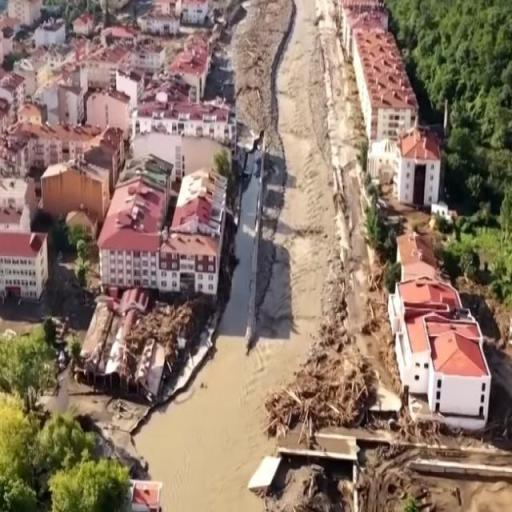flood: (135, 151, 308, 512)
house: (394, 262, 496, 430), (112, 154, 226, 297), (350, 0, 414, 131), (390, 118, 446, 220), (39, 152, 112, 226), (2, 226, 50, 300), (184, 98, 242, 139), (90, 86, 133, 128), (142, 98, 183, 134), (140, 12, 181, 36), (130, 40, 167, 66), (178, 0, 209, 26)
